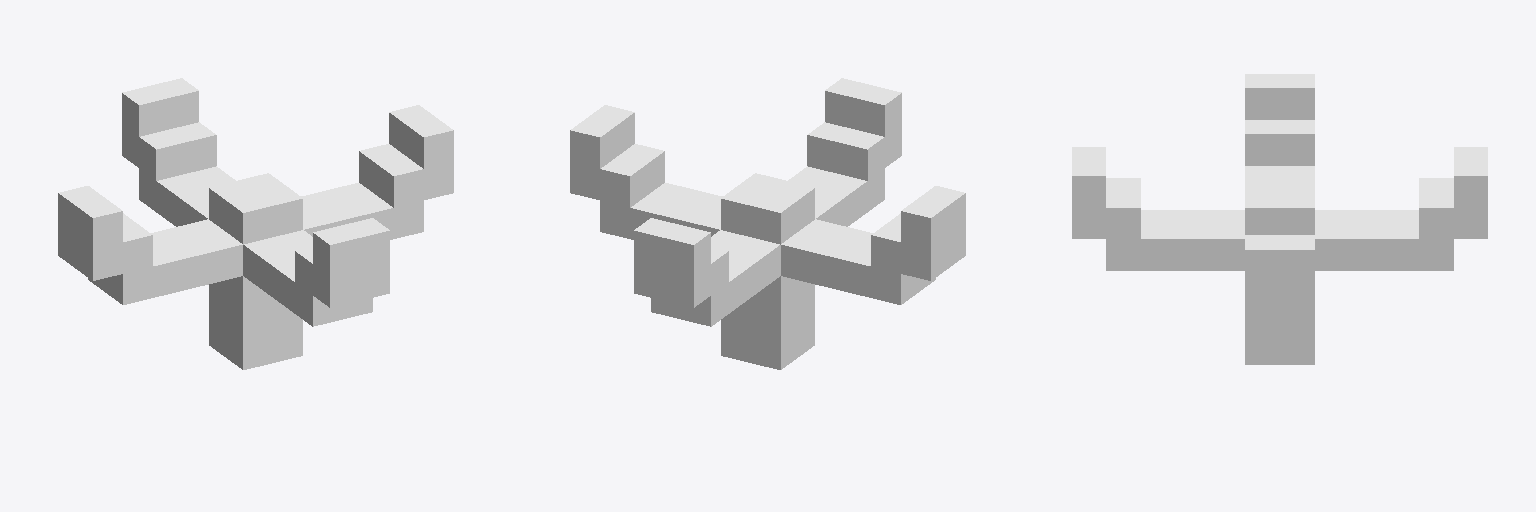
The model's file is GDIConstructionYardFan2.obj.
The picture shows the model from 3 angles: view 1: azimuth 30°, elevation 25°; view 2: azimuth 150°, elevation 25°; view 3: azimuth 270°, elevation 25°; orthographic projection.
Visible parts, largest first — view 1: object 1; view 2: object 1; view 3: object 1.
Boxes of the visible parts, x1=… form: object 1: x1=58, y1=78, x2=453, y2=369; object 1: x1=570, y1=78, x2=965, y2=369; object 1: x1=1072, y1=74, x2=1487, y2=364.
Bounding box in the file's own units: 1.2 × 0.6 × 1.2.